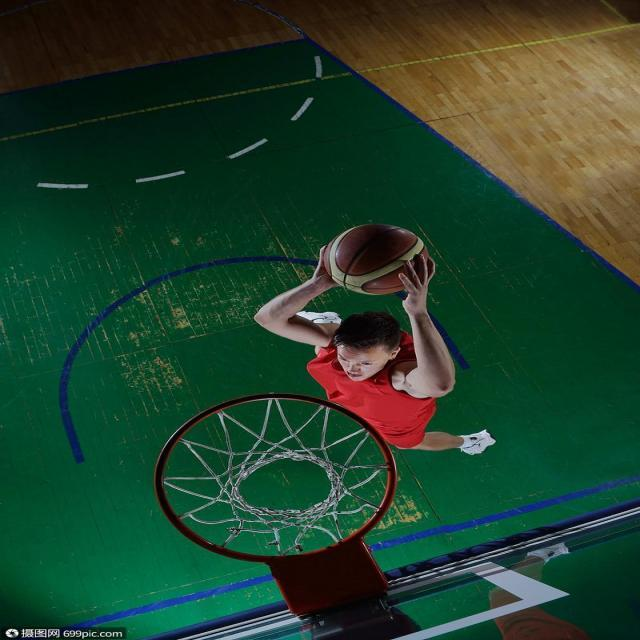rim: (328, 224, 430, 296)
